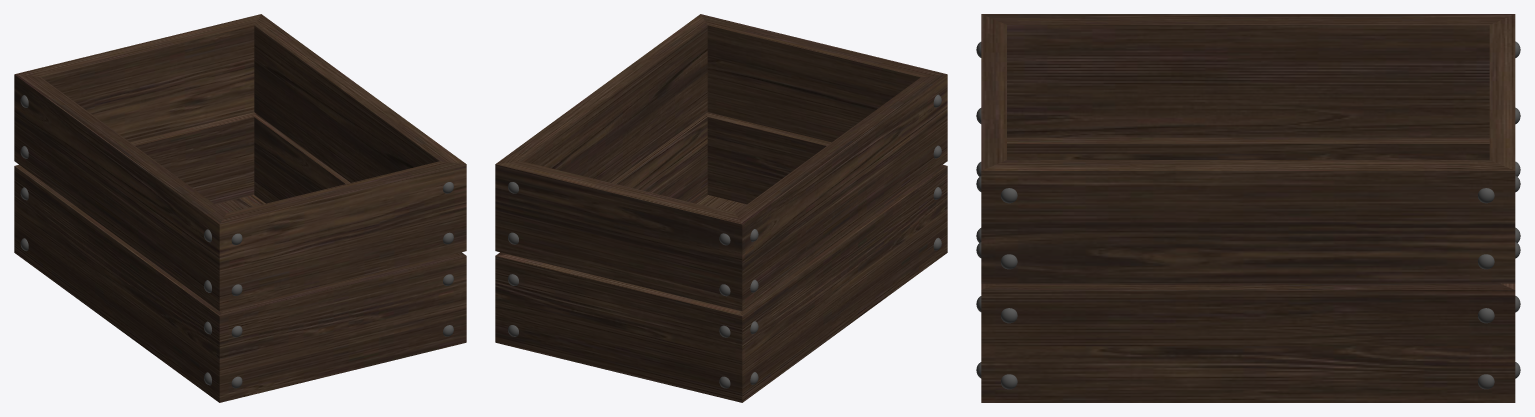
File: F_Chest_01.fbx
3 renders of one model, left to right at view 1: azimuth 30°, elevation 25°; view 2: azimuth 150°, elevation 25°; view 3: azimuth 270°, elevation 25°, orthographic. The views are drawn at different scales.
Visible parts, largest first — view 1: F_Chest_01; view 2: F_Chest_01; view 3: F_Chest_01.
Boxes of the visible parts, x1,y1,x2,y2 form: F_Chest_01: [14, 14, 466, 402]; F_Chest_01: [495, 14, 947, 402]; F_Chest_01: [976, 14, 1520, 402].
Size of the model in its own units: 50.72 by 33.97 by 72.19.
Materials: 1 (1 with a texture image).
